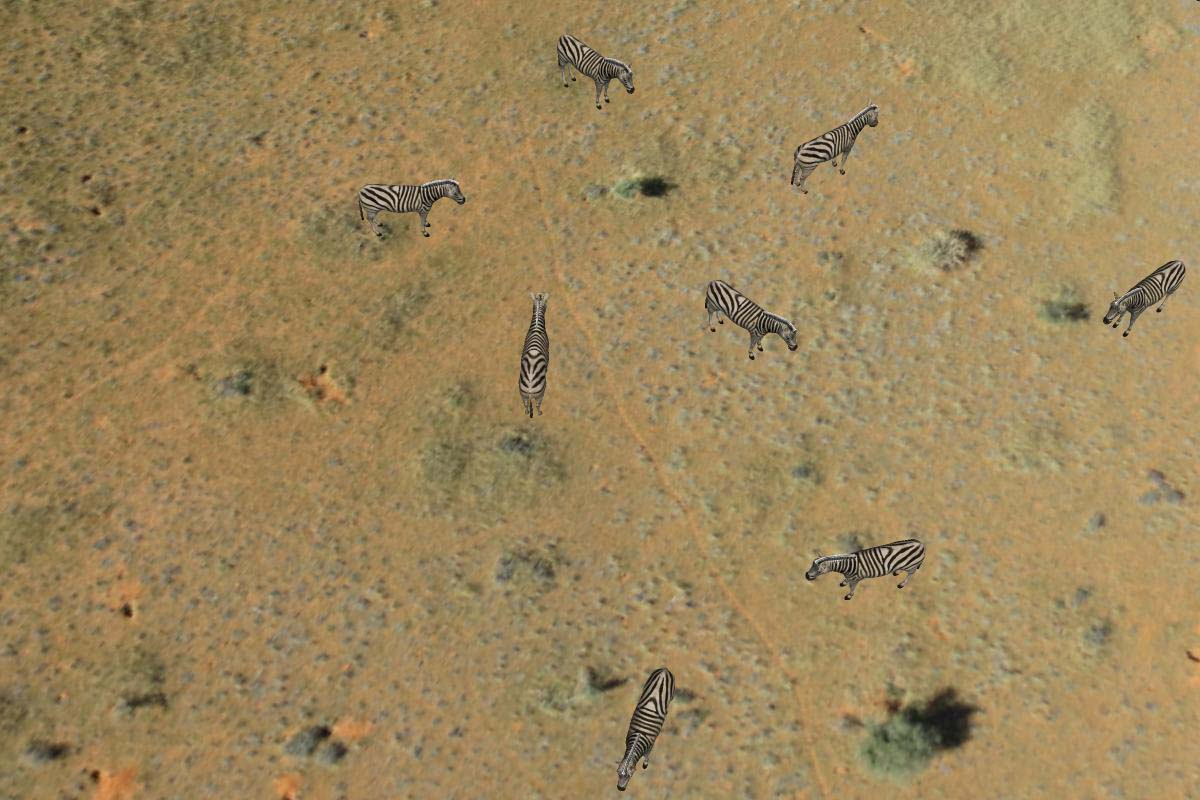zebra: (690, 269, 807, 367), (611, 660, 686, 800), (796, 529, 934, 604), (348, 169, 475, 250), (784, 98, 884, 192), (550, 27, 652, 115), (1103, 246, 1192, 342), (507, 287, 563, 415)
